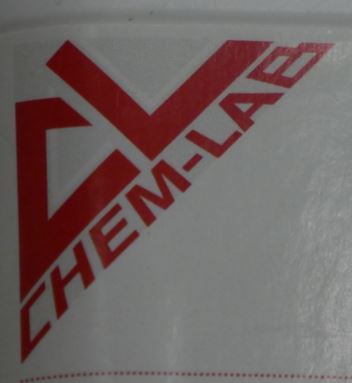ChemLab: (15, 39, 339, 365)
